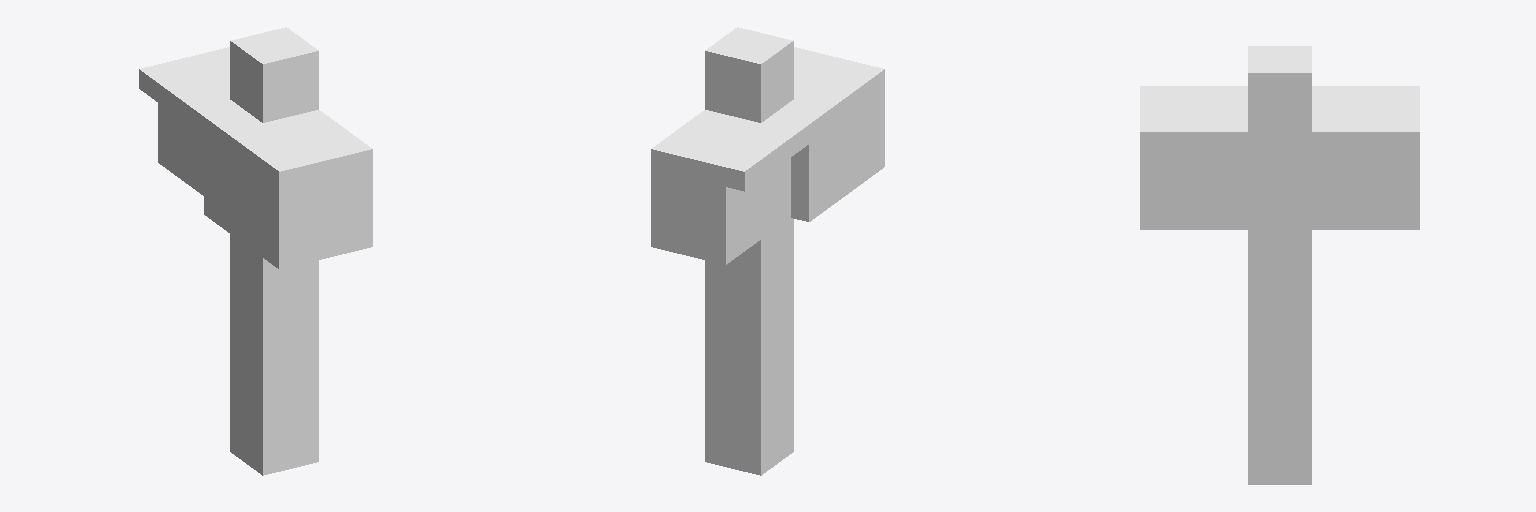
The model's file is light3.obj.
The picture shows the model from 3 angles: view 1: azimuth 30°, elevation 25°; view 2: azimuth 150°, elevation 25°; view 3: azimuth 270°, elevation 25°; orthographic projection.
Visible parts, largest first — view 1: object 1; view 2: object 1; view 3: object 1.
Boxes of the visible parts, <box> form: object 1: <box>139,27,372,475</box>; object 1: <box>651,27,884,475</box>; object 1: <box>1140,46,1419,484</box>.
Bounding box in the file's own units: 0.5 × 2.1 × 1.3.